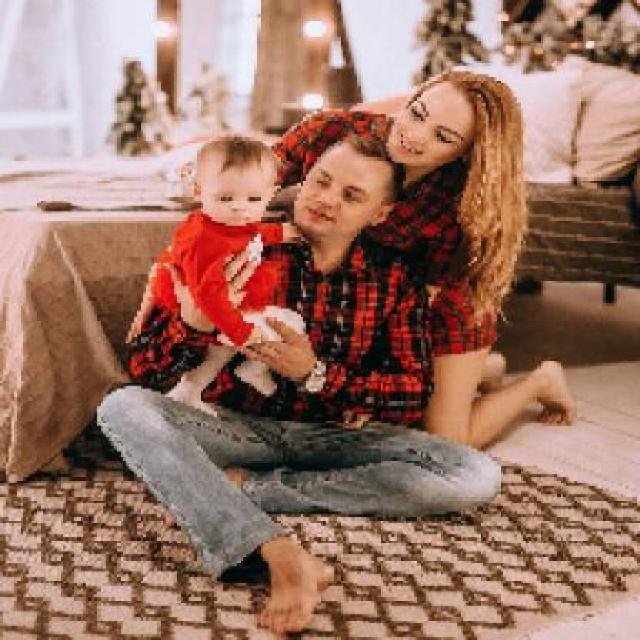child: (123, 133, 306, 413)
